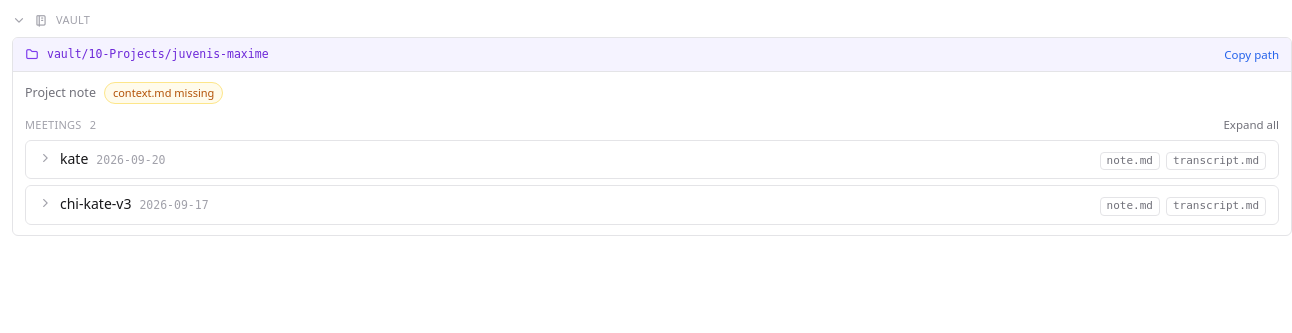
Test: collapse and expand › expands one meeting to its full folder path and a row per file
This screenshot has width=1292, height=333.
Click the button with test id "vault-meeting-2026-09-20-kate" at (131, 160), box [38, 148, 1266, 170]
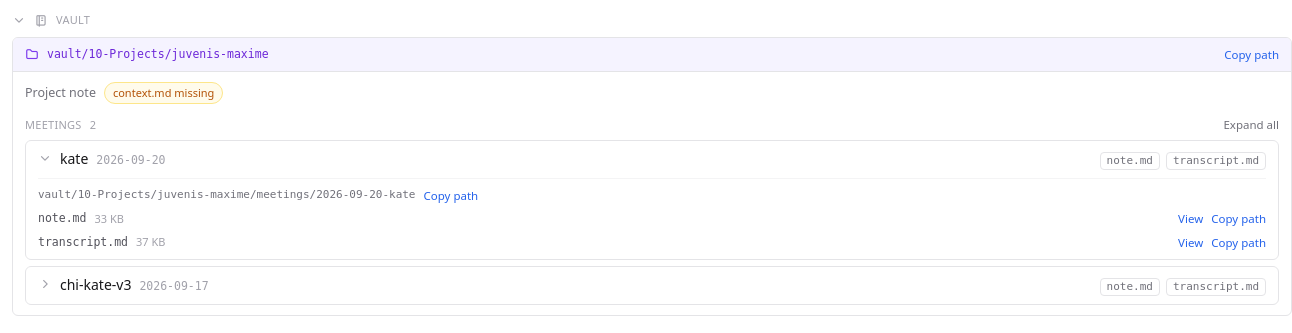
expect the element with test id "vault-meeting-body-2026-09-20-kate" shows "vault/10-Projects/juvenis-maxime/meetings/2026-09-20-kate": met, box [38, 178, 1266, 251]
expect the element with test id "vault-meeting-body-2026-09-20-kate" shows "note.md": met, box [38, 211, 86, 225]
expect the element with test id "vault-meeting-body-2026-09-20-kate" shows "transcript.md": met, box [38, 234, 128, 248]
